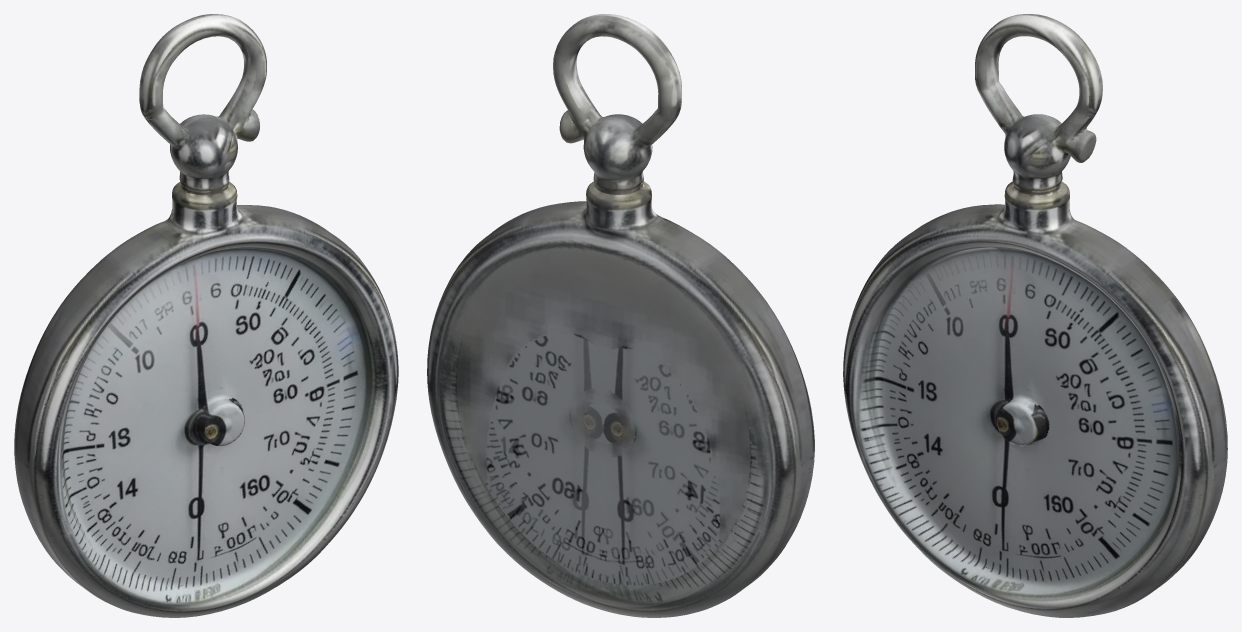
The model's file is scales-hanging.glb.
3 views of the same model, side by side, from view 1: azimuth 30°, elevation 25°; view 2: azimuth 150°, elevation 25°; view 3: azimuth 330°, elevation 25° (orthographic).
Visible parts, largest first — view 1: cowninja-scales-hanging; view 2: cowninja-scales-hanging; view 3: cowninja-scales-hanging.
Part boxes in pixels (<box>): cowninja-scales-hanging: <box>14,14,398,617</box>; cowninja-scales-hanging: <box>427,14,814,617</box>; cowninja-scales-hanging: <box>843,14,1227,617</box>.
Size of the model in its own units: 0.3287 by 0.4999 by 0.0617.
1 material, 1 textured.
